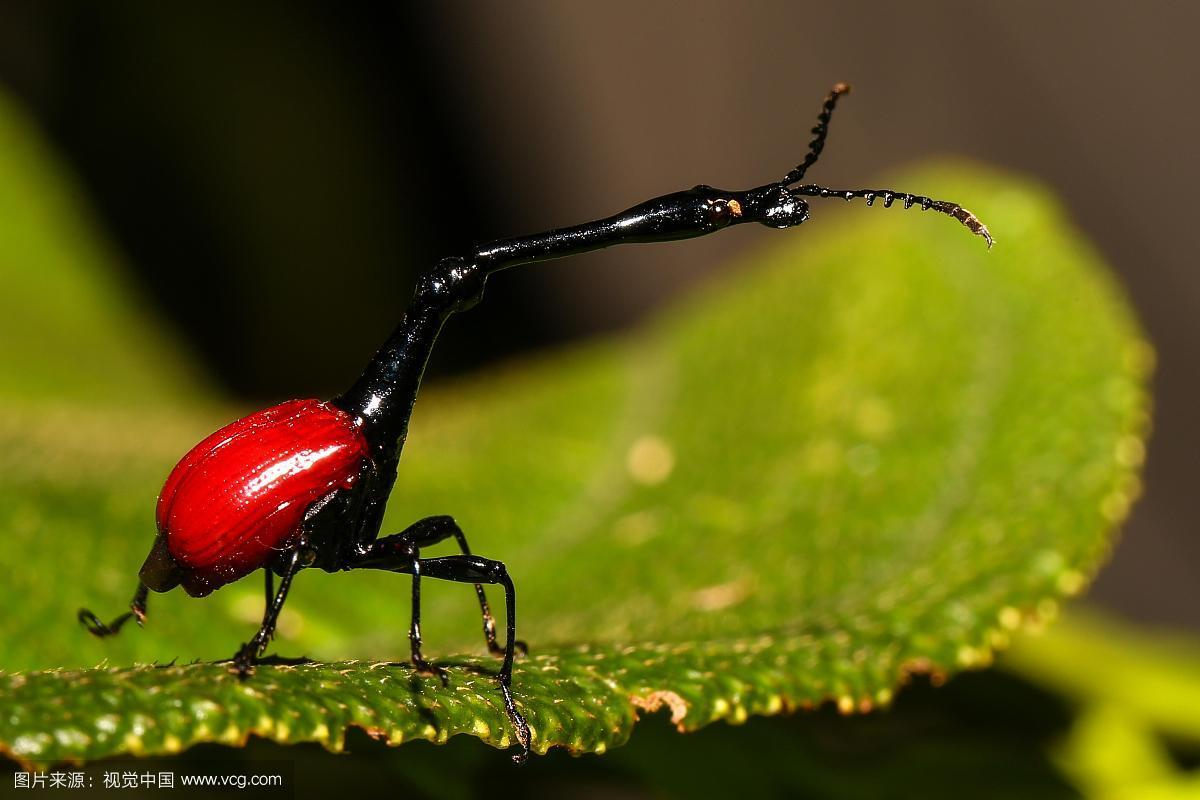Curculionidae: (75, 78, 997, 770)
